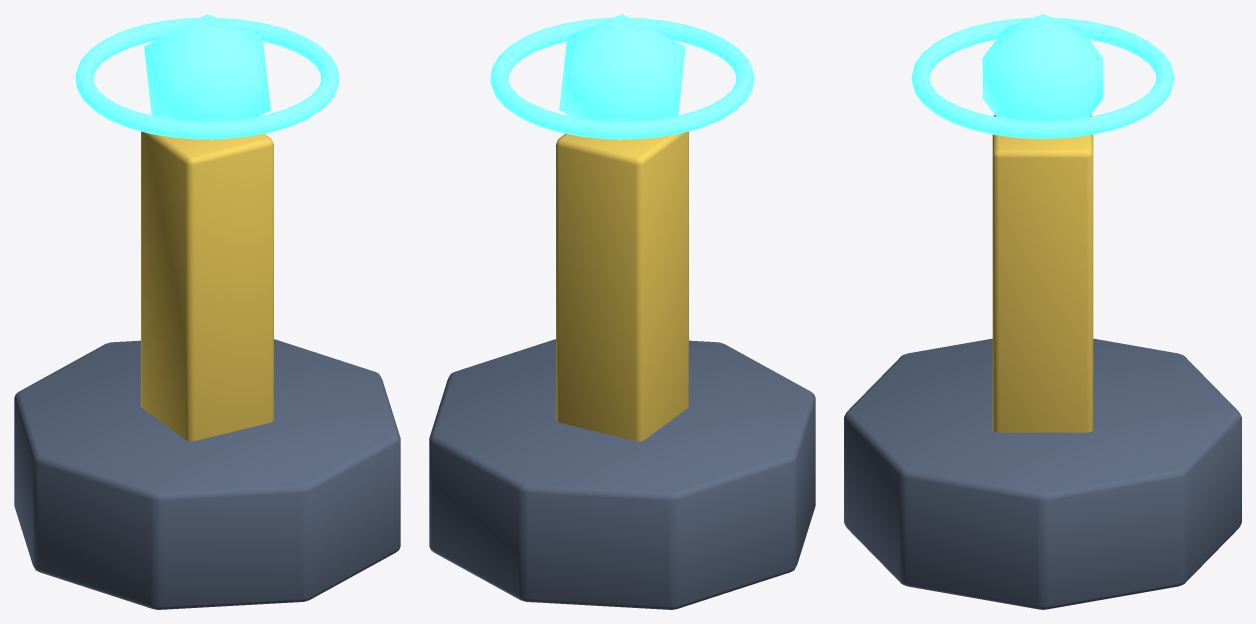
File: prop_respawn_beacon.glb
The picture shows the model from 3 angles, left to right: view 1: azimuth 30°, elevation 25°; view 2: azimuth 150°, elevation 25°; view 3: azimuth 270°, elevation 25°; orthographic projection.
Parts seen in each view (by area): view 1: pedestal, spire_body, soul_crystal, halo; view 2: pedestal, spire_body, soul_crystal, halo; view 3: pedestal, spire_body, soul_crystal, halo.
Part boxes in pixels (x1=…): pedestal: x1=14, y1=339, x2=400, y2=609; spire_body: x1=141, y1=131, x2=273, y2=441; soul_crystal: x1=144, y1=14, x2=270, y2=139; halo: x1=75, y1=17, x2=339, y2=139; pedestal: x1=429, y1=339, x2=815, y2=609; spire_body: x1=556, y1=131, x2=688, y2=441; soul_crystal: x1=559, y1=14, x2=685, y2=139; halo: x1=490, y1=17, x2=754, y2=139; pedestal: x1=844, y1=338, x2=1241, y2=609; spire_body: x1=992, y1=114, x2=1093, y2=432; soul_crystal: x1=982, y1=14, x2=1103, y2=120; halo: x1=911, y1=18, x2=1174, y2=138.
Size of the model in its own units: 3.08 by 4.4 by 3.08.
